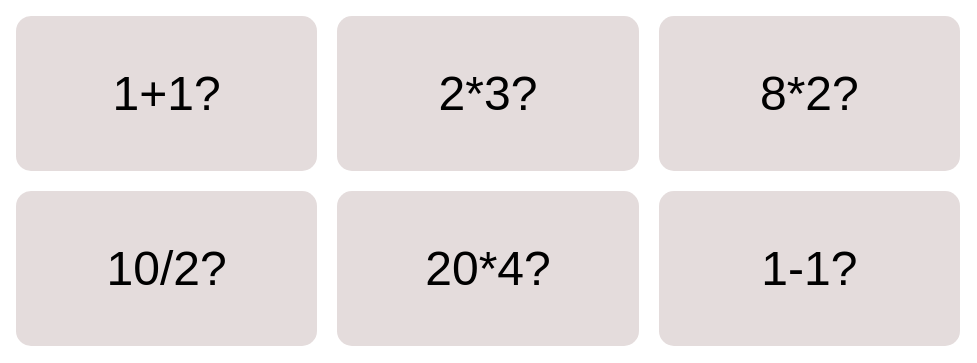
Test: App Component › shows answer on question click
Click the text "1+1?" at (167, 94), box [113,66,221,121]
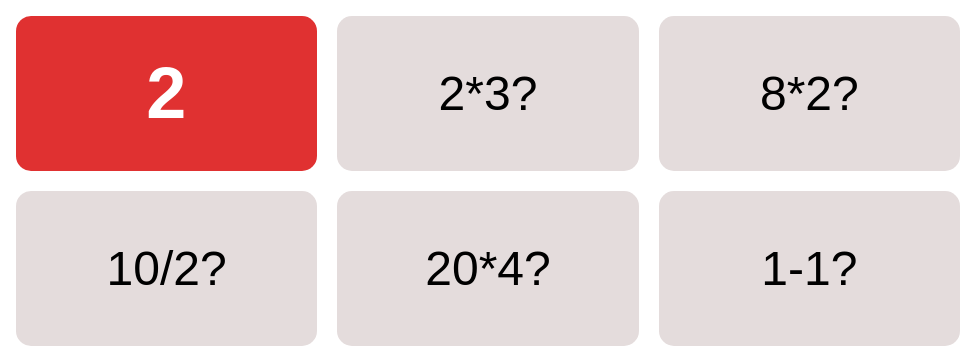
expect the text "2" is shown: met, box [147,52,187,135]
